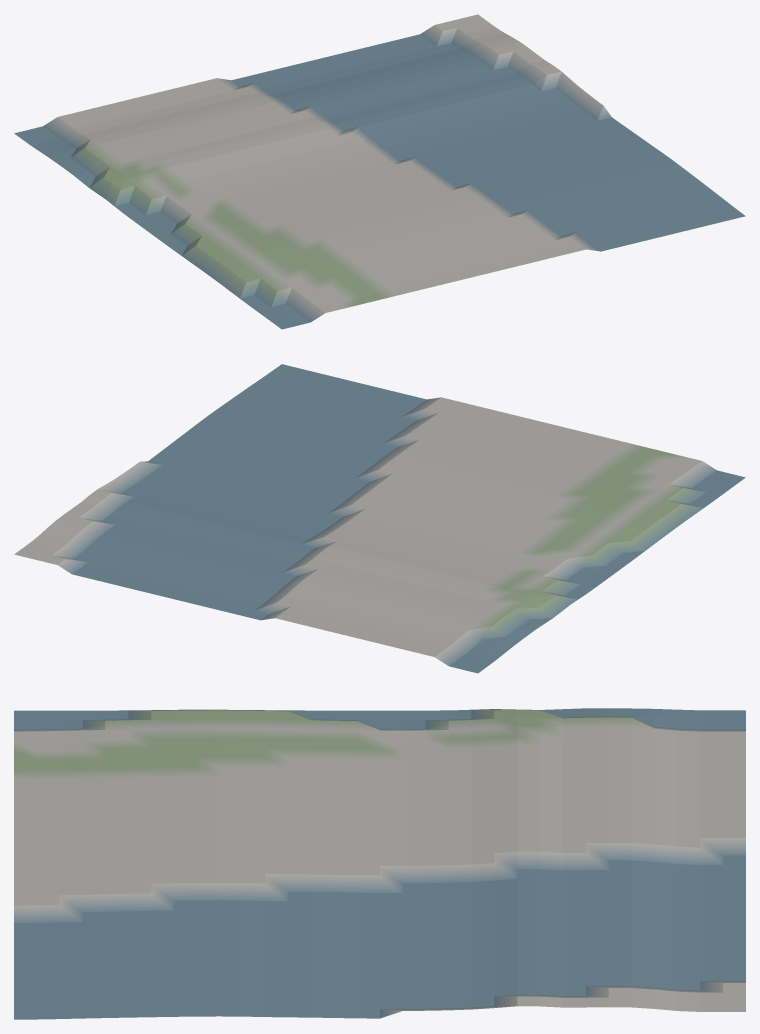
File: tile_9_1.glb
3 renders of one model, top to bottom at view 1: azimuth 30°, elevation 25°; view 2: azimuth 150°, elevation 25°; view 3: azimuth 270°, elevation 25°, orthographic. The views are drawn at different scales.
Visible parts, largest first — view 1: terrain; view 2: terrain; view 3: terrain.
Boxes of the visible parts, x1,y1,x2,y2 form: terrain: [14, 14, 745, 329]; terrain: [14, 364, 745, 673]; terrain: [14, 708, 745, 1019].
Bounding box in the file's own units: 256 × 5.28 × 256.
